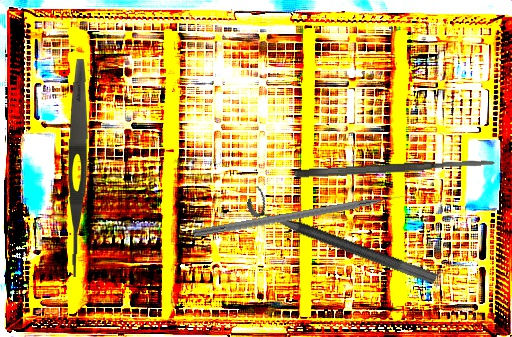Dressing Forceps: (66, 58, 90, 278)
Fixation Ring: (243, 184, 444, 286)
Hook Surgical: (192, 192, 409, 240)
Spatula Surgical: (293, 157, 497, 180)
